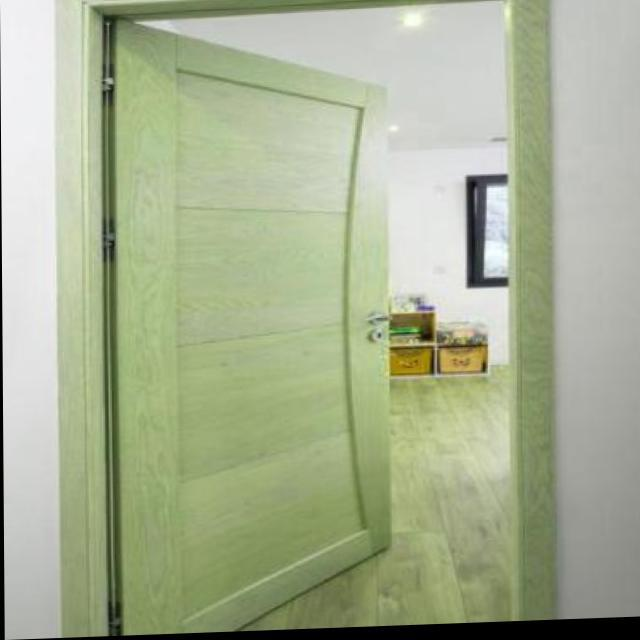door_handle: (361, 307, 393, 334)
